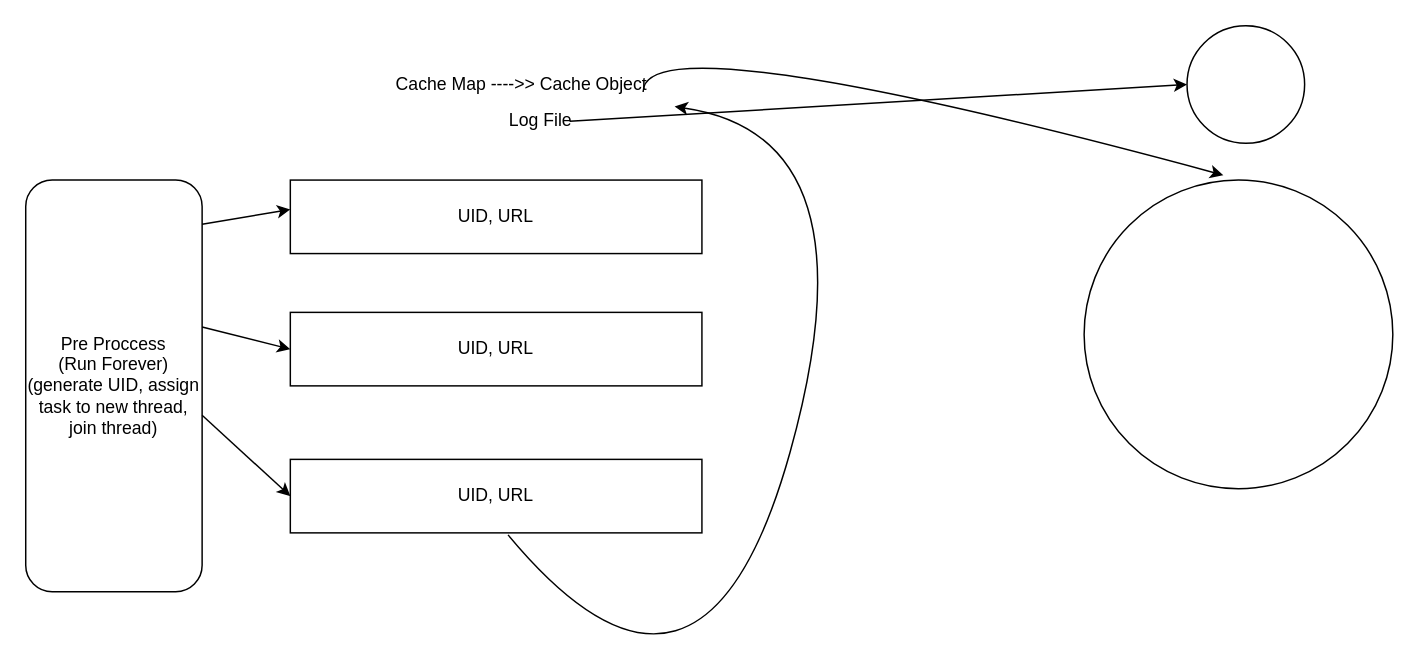
Image size: 1419x660. Some labels were removed from this diagram. Here are the shapes that lost their labels. From the top down, the box of each, then its label:
(1186, 24, 1305, 143): Log
(1083, 179, 1393, 489): Caching File system
